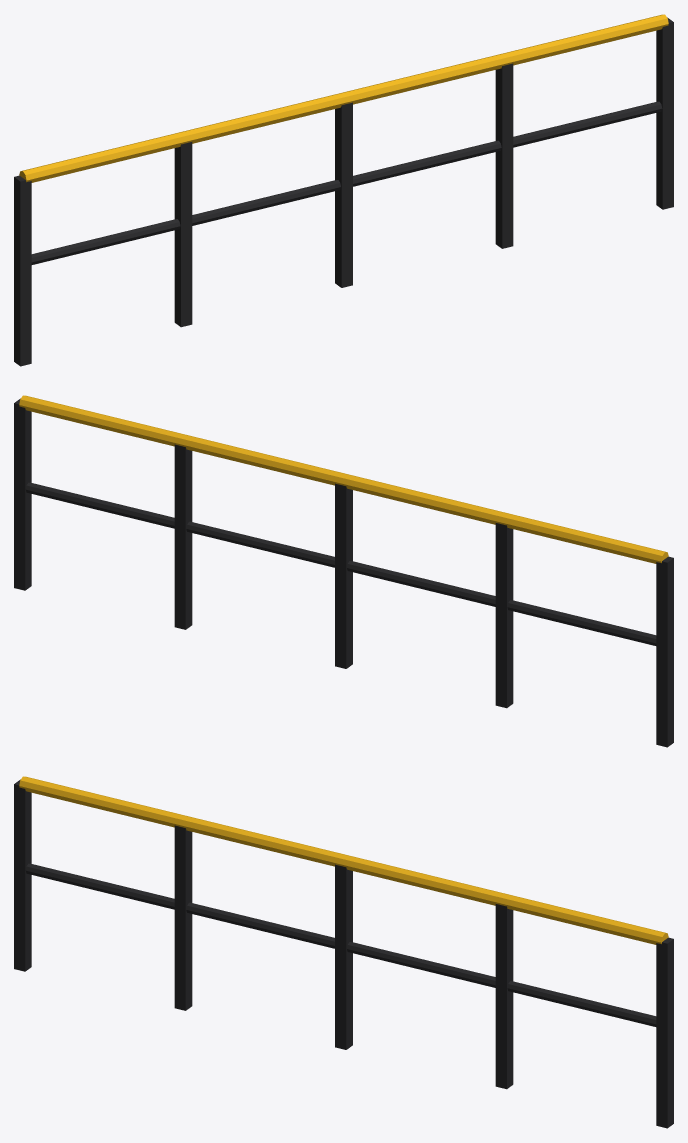
Rendered from canal_rail.glb.
The picture shows the model from 3 angles, top to bottom: view 1: azimuth 30°, elevation 25°; view 2: azimuth 150°, elevation 25°; view 3: azimuth 330°, elevation 25°; orthographic projection.
Visible parts, largest first — view 1: canal_rail; view 2: canal_rail; view 3: canal_rail.
Boxes of the visible parts, <box> form: canal_rail: <box>14,14,673,366</box>; canal_rail: <box>14,395,673,747</box>; canal_rail: <box>14,776,673,1128</box>.
Size of the model in its own units: 4.07 by 1.14 by 0.08.
